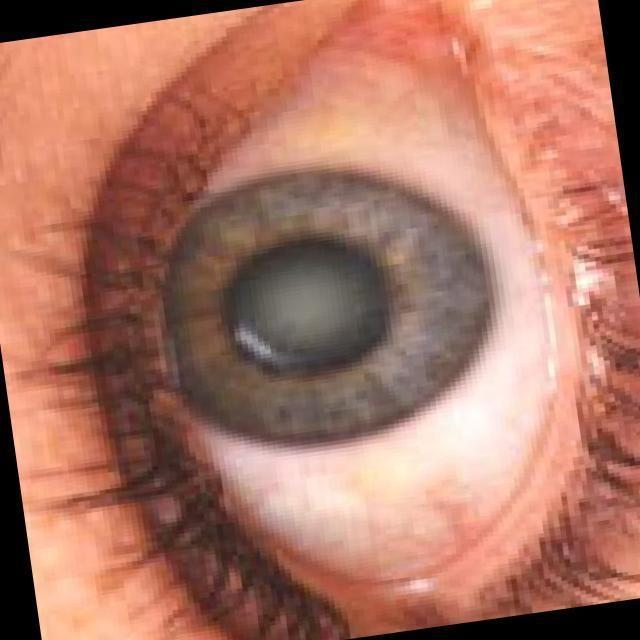Cataract: (138, 164, 448, 444)
